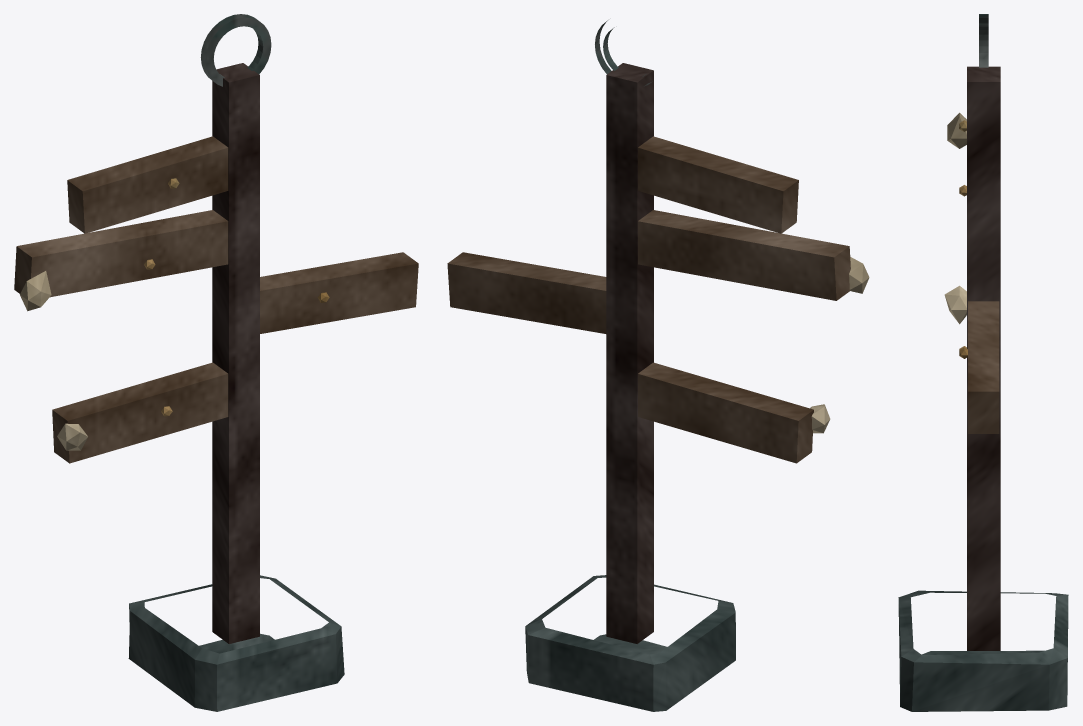
File: 0649_signpost_24.glb
3 renders of one model, left to right at view 1: azimuth 30°, elevation 25°; view 2: azimuth 150°, elevation 25°; view 3: azimuth 270°, elevation 25°, orthographic.
Visible parts, largest first — view 1: wood, wood_dark, stone_dark, iron, bone; view 2: wood, wood_dark, stone_dark, bone; view 3: wood_dark, stone_dark, wood, bone, iron.
Part boxes in pixels (x1,y1,x2,y2): wood: (14, 136, 418, 463); wood_dark: (212, 63, 259, 643); stone_dark: (128, 575, 344, 711); iron: (200, 14, 271, 86); bone: (20, 271, 87, 450); wood: (447, 136, 850, 463); wood_dark: (606, 63, 653, 643); stone_dark: (525, 575, 735, 711); bone: (810, 257, 869, 433); wood_dark: (967, 66, 1000, 650); stone_dark: (898, 590, 1068, 711); wood: (968, 301, 999, 433); bone: (944, 112, 966, 324); iron: (979, 14, 988, 67).
Size of the model in its own units: 1.94 by 3.04 by 0.7059.
6 materials, 6 textured.
